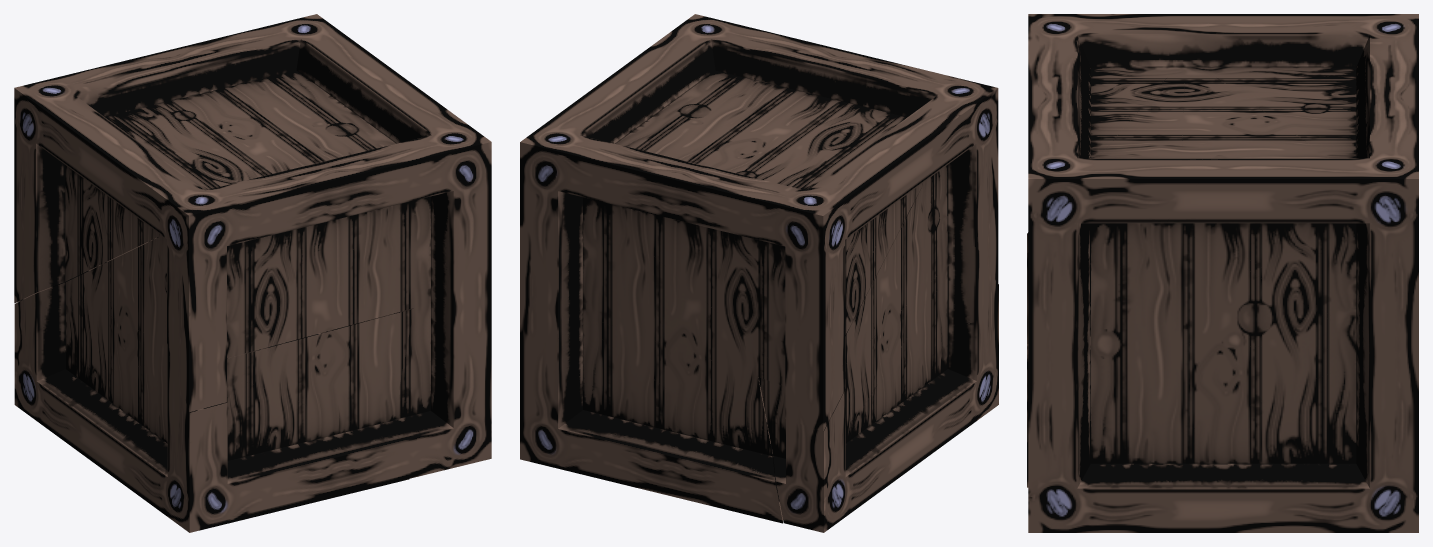
File: crate_pieces.fbx
3 renders of one model, left to right at view 1: azimuth 30°, elevation 25°; view 2: azimuth 150°, elevation 25°; view 3: azimuth 270°, elevation 25°, orthographic. The views are drawn at different scales.
Visible parts, largest first — view 1: crate_p1, crate_p4, crate_p2, crate_p3; view 2: crate_p2, crate_p4, crate_p3, crate_p1; view 3: crate_p3, crate_p2, crate_p1, crate_p4.
Boxes of the visible parts, x1,y1,x2,y2 form: crate_p1: (108,85,491,412); crate_p4: (14,237,416,532); crate_p2: (14,14,413,303); crate_p3: (227,303,491,478); crate_p2: (520,71,933,431); crate_p4: (758,188,998,532); crate_p3: (520,315,782,523); crate_p1: (618,14,998,284); crate_p3: (1028,223,1418,532); crate_p2: (1166,14,1418,383); crate_p1: (1028,14,1208,389); crate_p4: (1027,232,1028,487).
Size of the model in its own units: 200 by 200 by 201.
